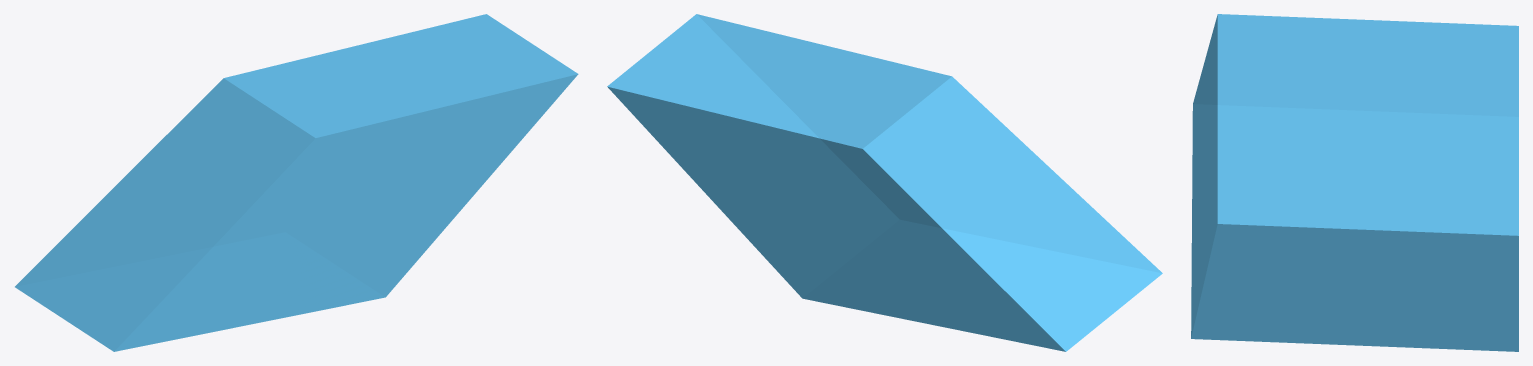
File: Event_421364160_HBrechit_20.fbx
The picture shows the model from 3 angles, left to right: view 1: azimuth 30°, elevation 25°; view 2: azimuth 150°, elevation 25°; view 3: azimuth 270°, elevation 25°; orthographic projection. The views are drawn at different scales.
Visible parts, largest first — view 1: Model; view 2: Model; view 3: Model.
Boxes of the visible parts, box(x1,y1,x2,y2) form: Model: box(15, 14, 578, 351); Model: box(607, 14, 1162, 351); Model: box(1191, 14, 1518, 351).
Size of the model in its own units: 1.19 by 0.4242 by 0.4367.
